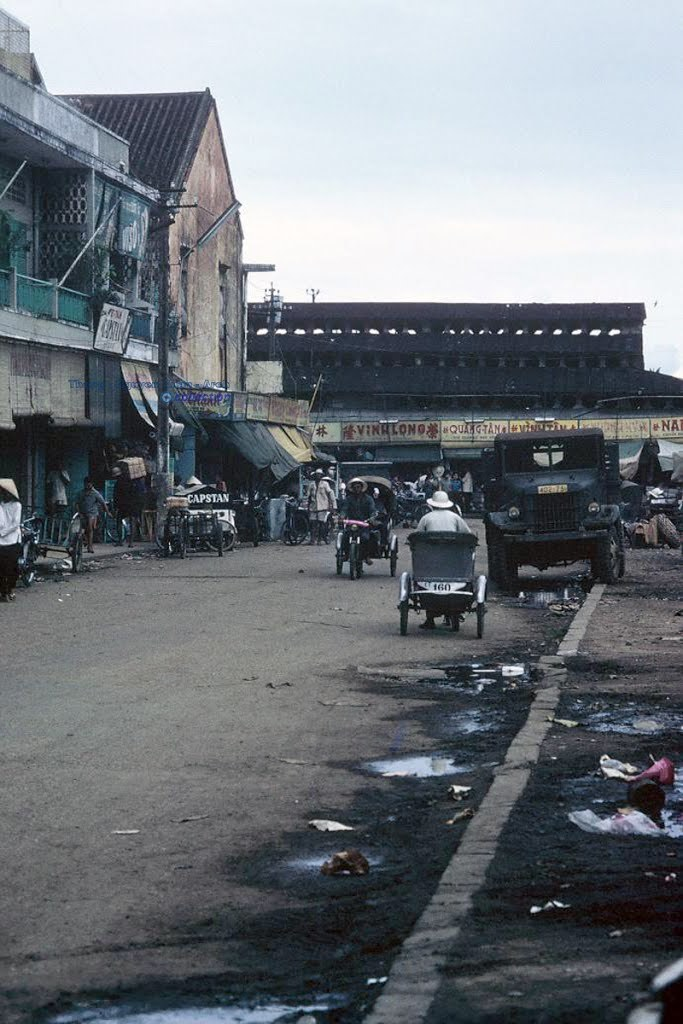Car: (493, 424, 643, 593)
